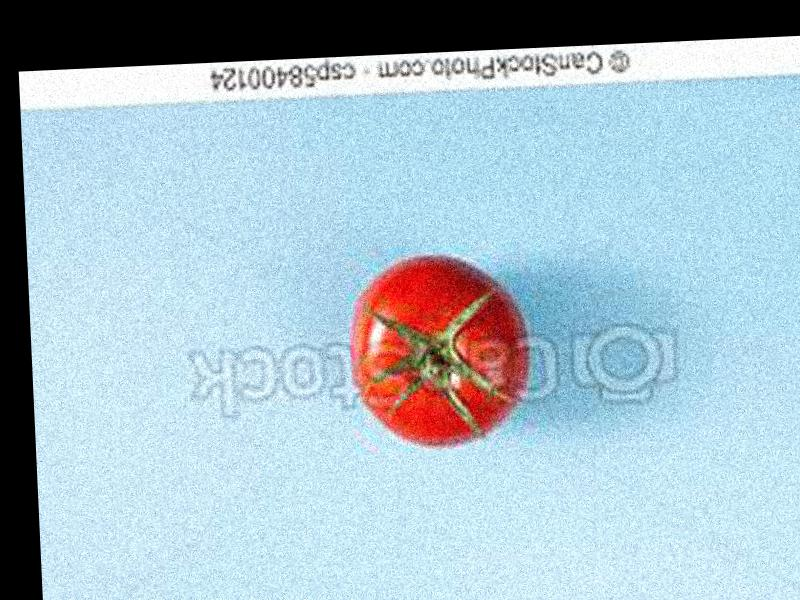Tomato: (348, 248, 528, 449)
